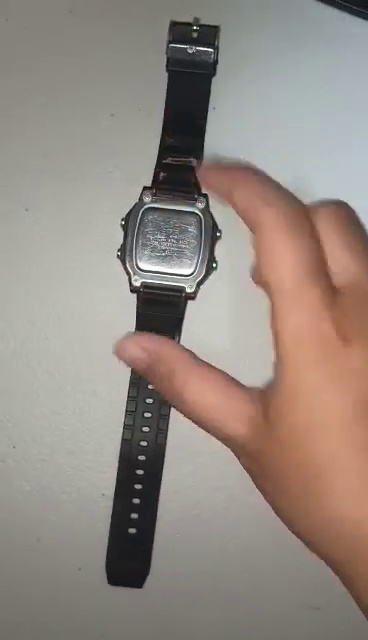watch: (104, 19, 229, 592)
